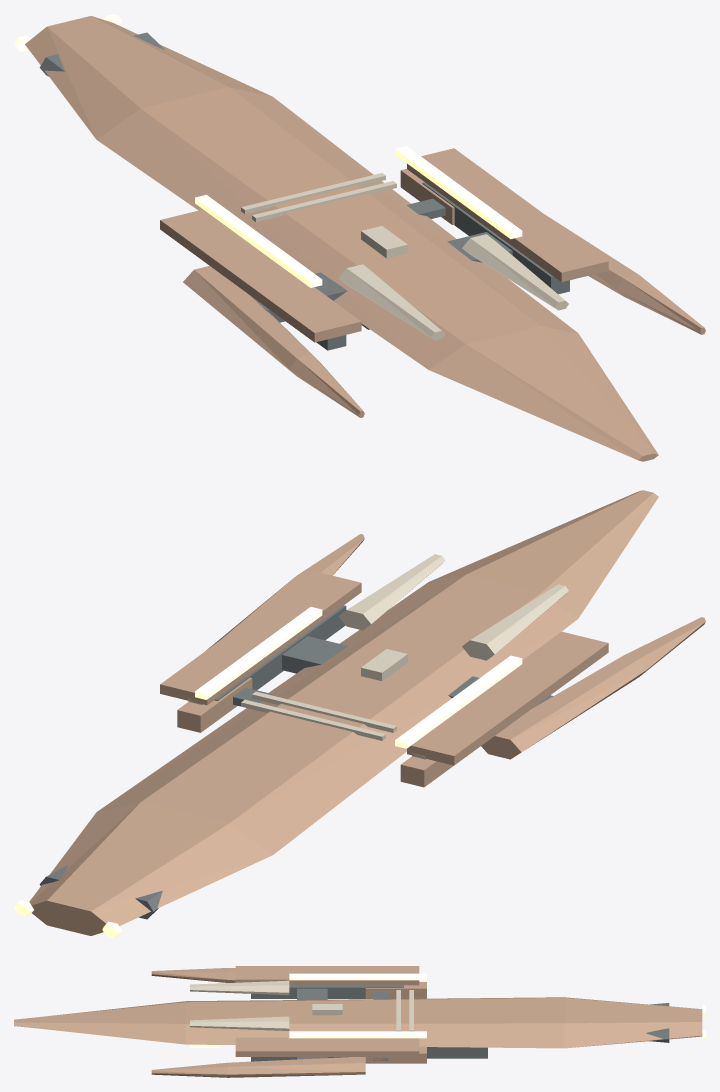
The picture shows the model from 3 angles, top to bottom: view 1: azimuth 30°, elevation 25°; view 2: azimuth 150°, elevation 25°; view 3: azimuth 270°, elevation 25°; orthographic projection. The views are drawn at different scales.
Size of the model in its own units: 6.99 by 1.49 by 19.73.
